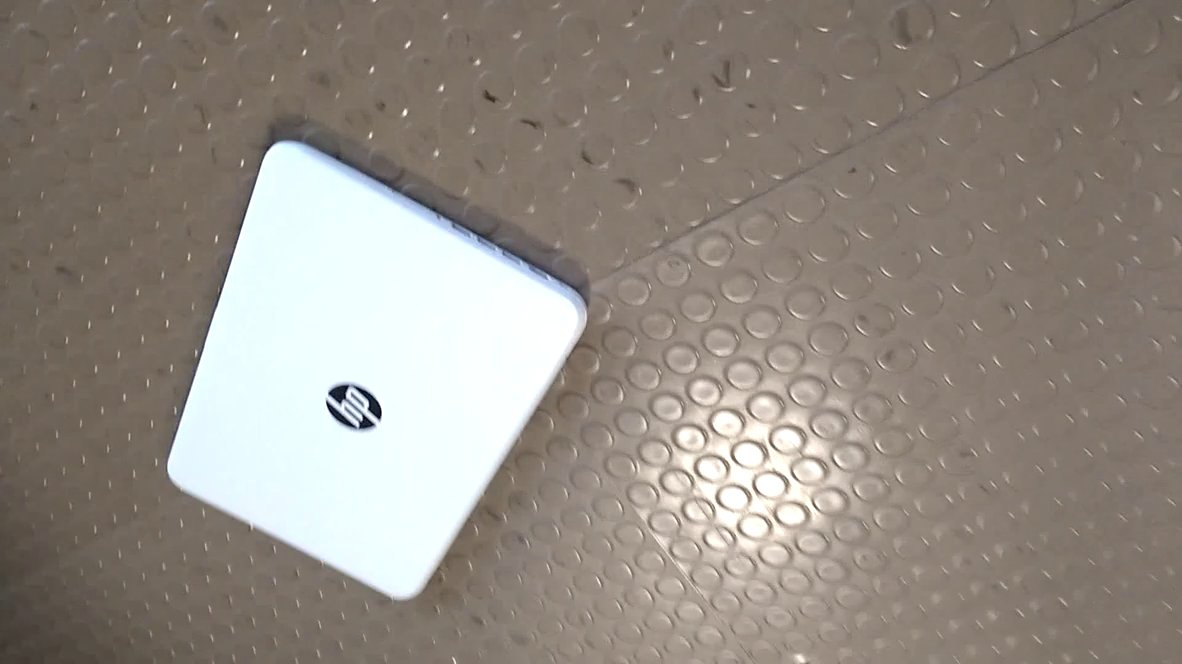laptop: (163, 127, 592, 609)
